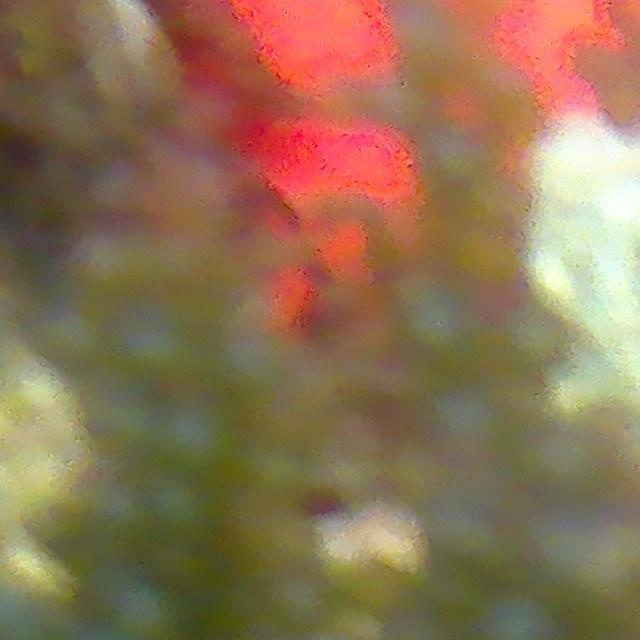SeaGrape: (152, 392, 242, 479), (149, 475, 224, 550), (121, 315, 193, 392), (484, 588, 559, 640), (112, 580, 177, 640)
